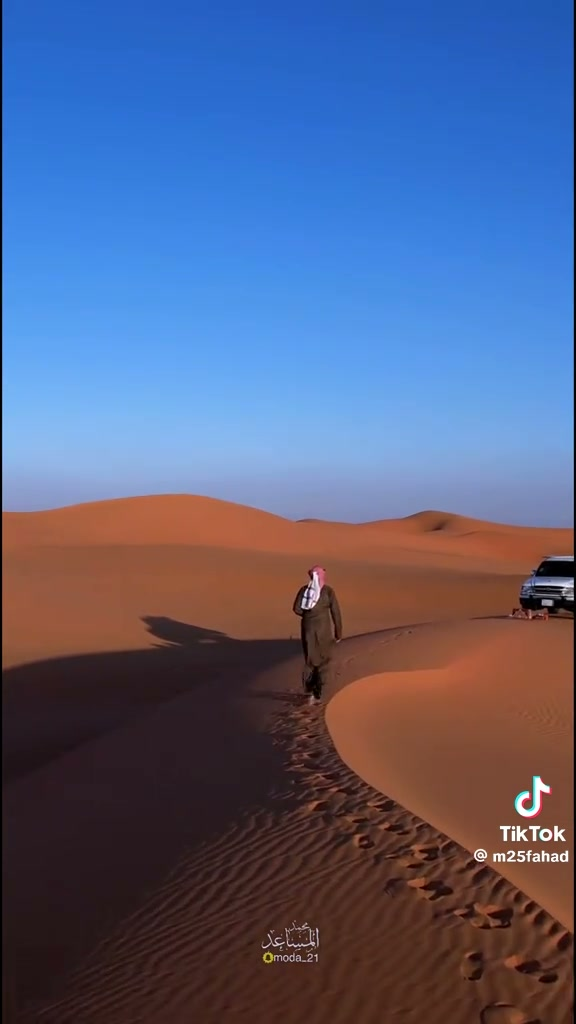human: (293, 566, 341, 703)
human_foot_print: (285, 718, 558, 1023), (504, 954, 558, 983), (454, 903, 513, 929), (480, 1002, 542, 1023), (407, 877, 452, 901), (401, 842, 440, 867), (460, 951, 485, 981), (352, 833, 374, 849)
